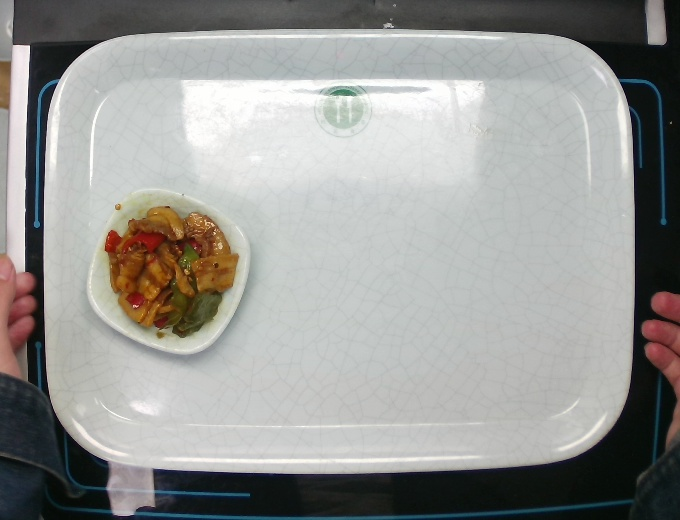JYsf-Si_Fang_Die: (82, 182, 256, 365)
